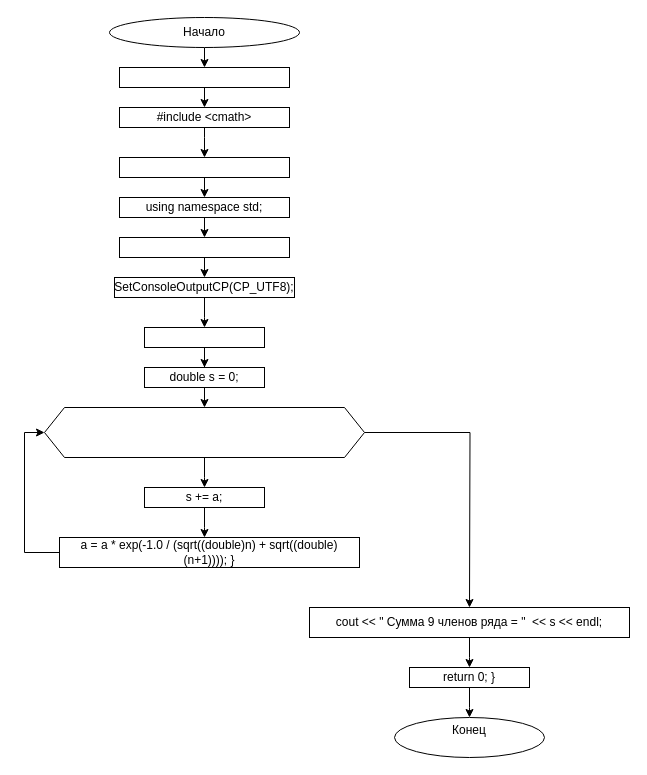
The diagram is 647 pixels wide and 775 high, and some of its shapes have lost their labels. Here are the shapes that lost their labels. From the top down, the centre of each, then its label:
At (204,77): "#include <iostream>".
At (204,167): "#include <windows.h>".
At (204,247): "int main(){".
At (204,337): "double a = exp(-1.0);".
At (204,432): "for (int n = 1; n<=9; n++){".
